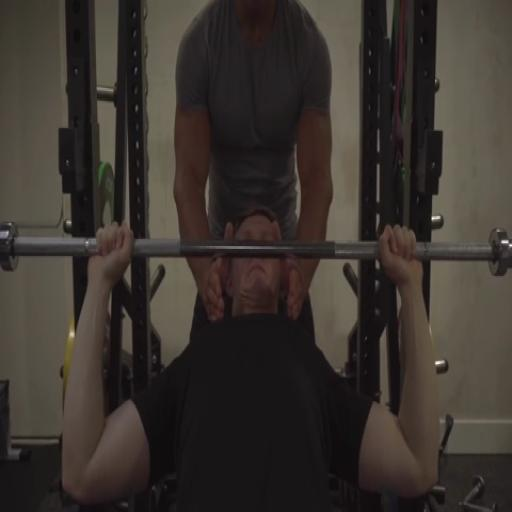exercise: (60, 206, 442, 511), (171, 0, 336, 347)
